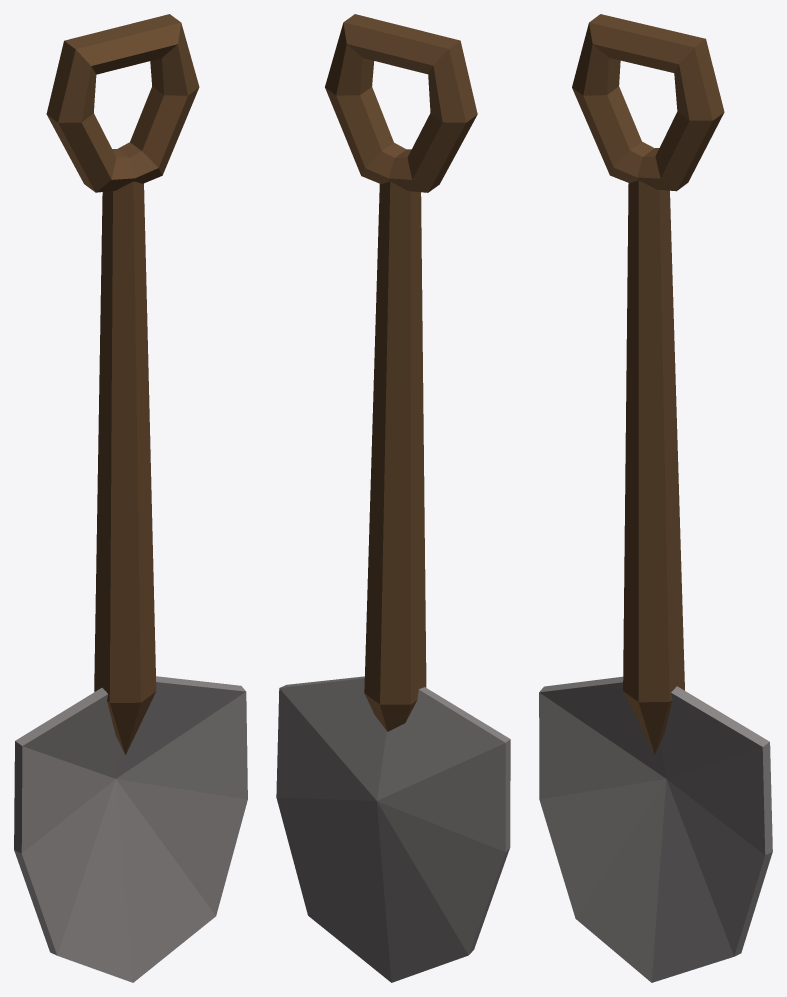
File: tools_shovel.fbx
3 views of the same model, side by side, from view 1: azimuth 30°, elevation 25°; view 2: azimuth 150°, elevation 25°; view 3: azimuth 330°, elevation 25° (orthographic).
Visible parts, largest first — view 1: tools_shovel; view 2: tools_shovel; view 3: tools_shovel.
Boxes of the visible parts, <box> form: tools_shovel: <box>14,14,247,982</box>; tools_shovel: <box>276,14,510,982</box>; tools_shovel: <box>539,14,772,982</box>.
Size of the model in its own units: 50.42 by 200 by 12.44.
